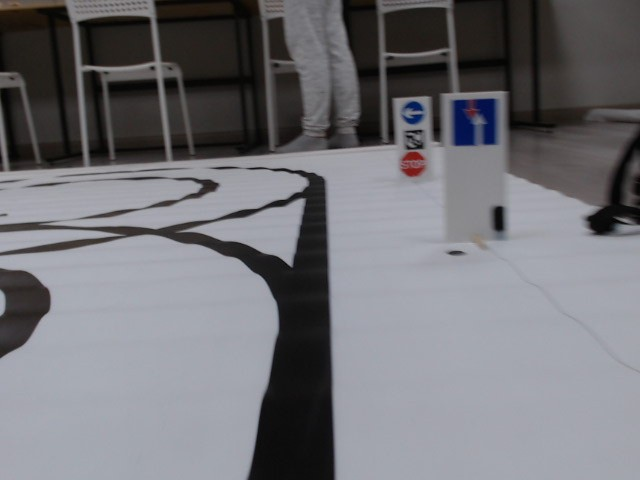Stop: (400, 152, 425, 176)
priority_movement: (448, 97, 503, 149)
